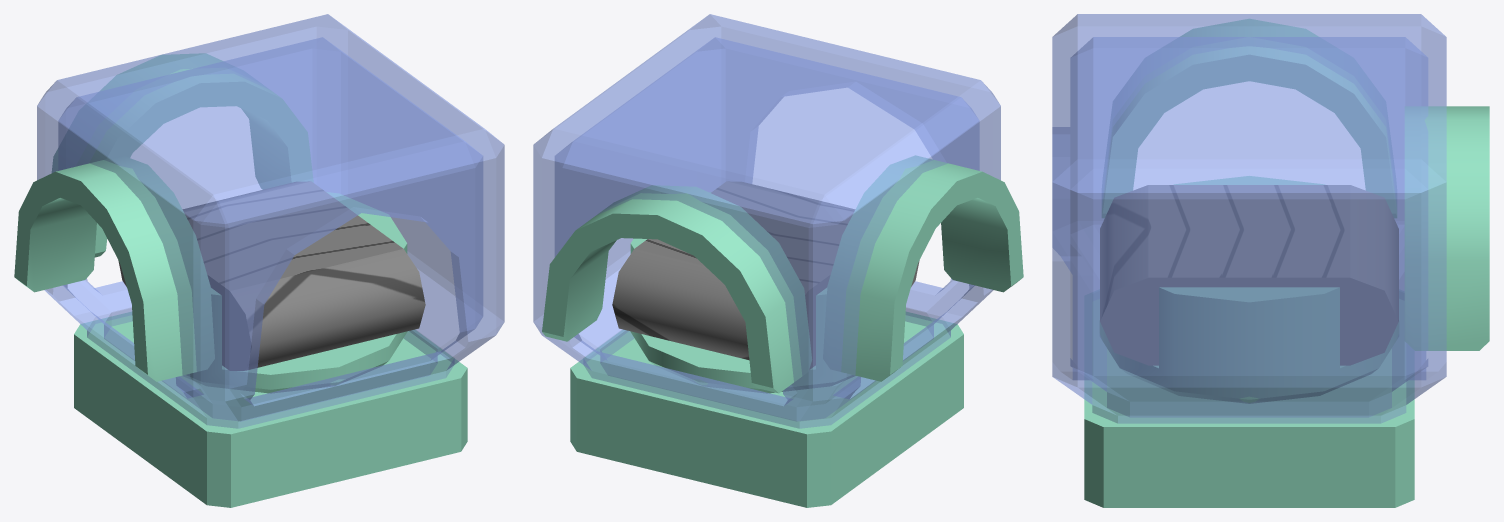
Rendered from factory_belt_trun.FBX.
The picture shows the model from 3 angles, left to right: view 1: azimuth 30°, elevation 25°; view 2: azimuth 150°, elevation 25°; view 3: azimuth 270°, elevation 25°; orthographic projection. The views are drawn at different scales.
Visible parts, largest first — view 1: Box002, factory_belt_belt; view 2: Box002, factory_belt_belt; view 3: Box002, factory_belt_belt.
Boxes of the visible parts, x1,y1,x2,y2 form: Box002: [14, 14, 504, 507]; factory_belt_belt: [118, 181, 425, 370]; Box002: [533, 14, 1023, 507]; factory_belt_belt: [612, 181, 919, 369]; Box002: [1052, 14, 1489, 507]; factory_belt_belt: [1100, 185, 1398, 365].
Bounding box in the file's own units: 172 × 153 × 172.
